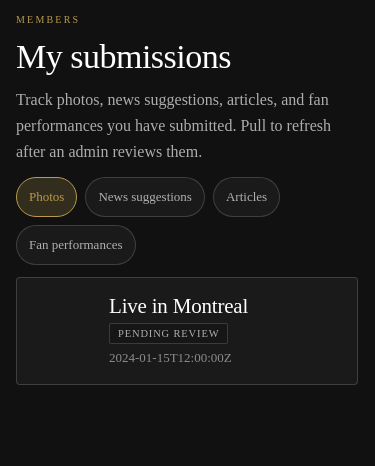
Scenario: MySubmissionsScreen › switches tabs to news and articles
This screenshot has width=375, height=466.
Expected: the text "Live in Montreal" is shown, [109,294,248,318]
Click the tab "News suggestions" at point(145, 197), box [85,177,205,217]
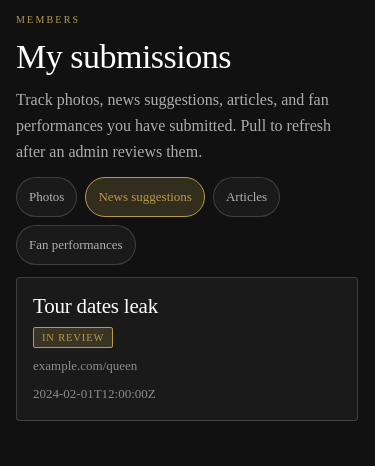
Result: the text "Tour dates leak" is shown at [33,294,158,318]
Result: the text "Live in Montreal" is gone
Click the tab "Articles" at point(246, 197), box [213,177,280,217]
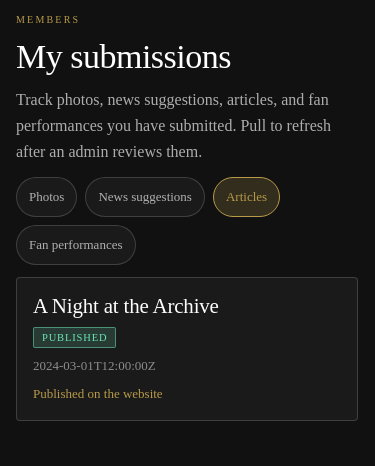
Result: the text "A Night at the Archive" is shown at [33,294,219,318]
Result: the text "Published on the website" is shown at [33,386,163,401]
Click the tab "Fan performances" at point(76, 245), box [16,225,136,265]
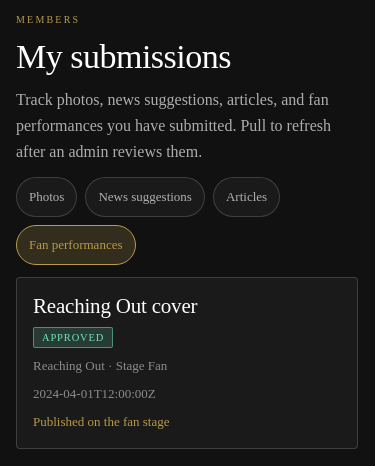
Result: the text "Reaching Out cover" is shown at [33,294,197,318]
Result: the text "Reaching Out · Stage Fan" is shown at [33,358,167,373]
Result: the text "Published on the fan stage" is shown at [33,414,170,429]
